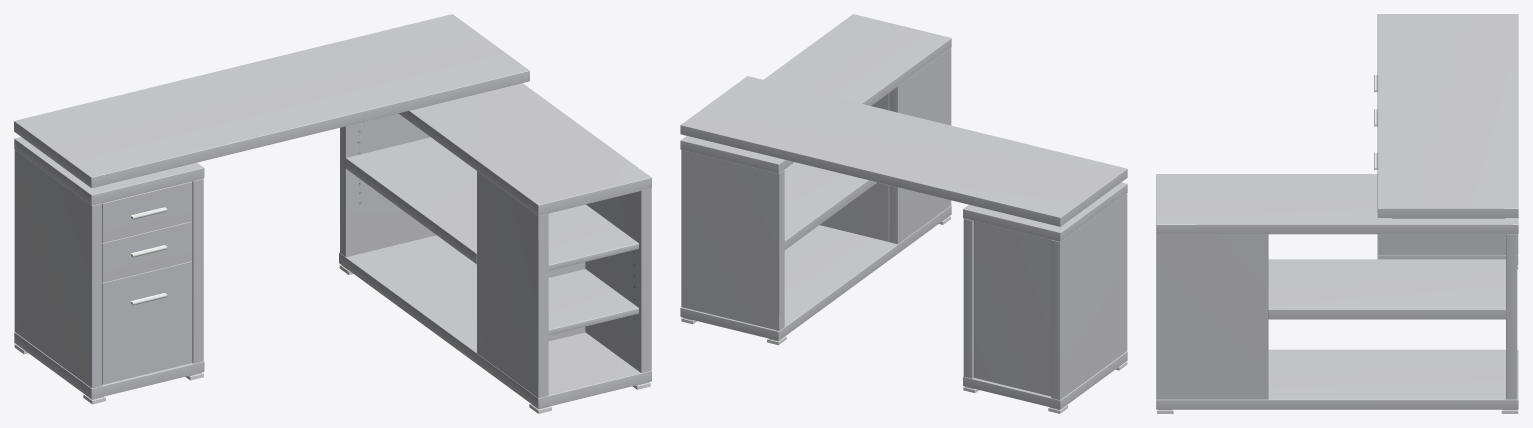
The model's file is B07TN2RZPW.glb.
3 renders of one model, left to right at view 1: azimuth 30°, elevation 25°; view 2: azimuth 150°, elevation 25°; view 3: azimuth 270°, elevation 25°, orthographic. The views are drawn at different scales.
Parts seen in each view (by area): view 1: RootNode; view 2: RootNode; view 3: RootNode.
Boxes of the visible parts, x1=… form: RootNode: x1=14, y1=14, x2=651, y2=413; RootNode: x1=680, y1=14, x2=1127, y2=413; RootNode: x1=1156, y1=14, x2=1518, y2=413.
Size of the model in its own units: 1.52 by 0.753 by 1.2.
1 material, 1 textured.
